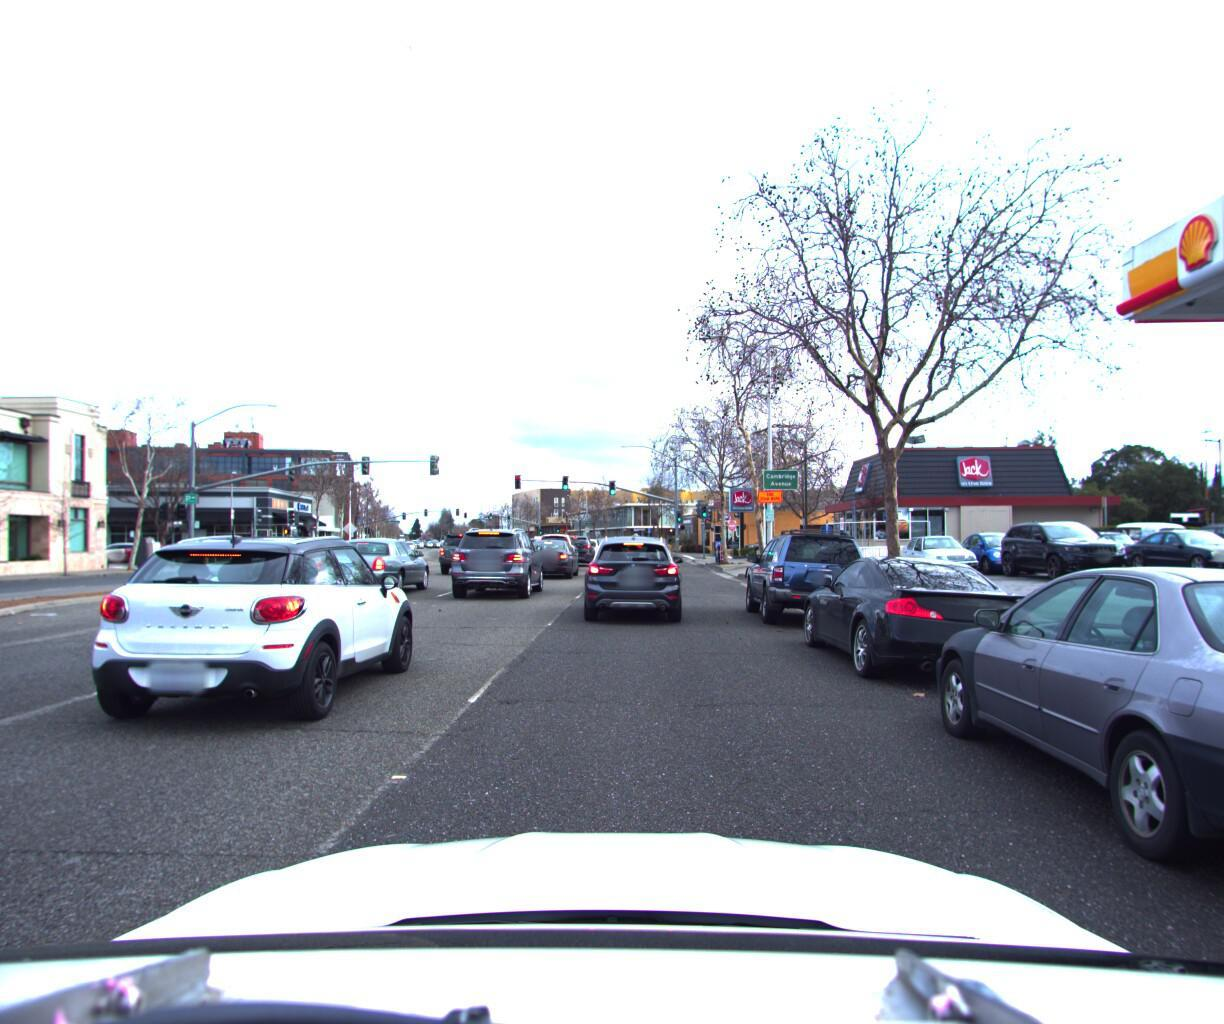car: (899, 549, 1224, 993), (53, 518, 423, 741), (793, 543, 1053, 692), (737, 522, 873, 624), (579, 532, 686, 634), (985, 514, 1133, 573), (310, 533, 435, 600), (1103, 513, 1224, 570), (451, 524, 543, 599), (1041, 522, 1158, 571), (1112, 521, 1224, 568), (942, 523, 1037, 574), (890, 529, 983, 576), (432, 527, 490, 573), (524, 535, 580, 577), (126, 539, 204, 563), (1189, 514, 1224, 565), (87, 539, 157, 563), (533, 527, 579, 559), (561, 533, 596, 563), (583, 528, 614, 552)
